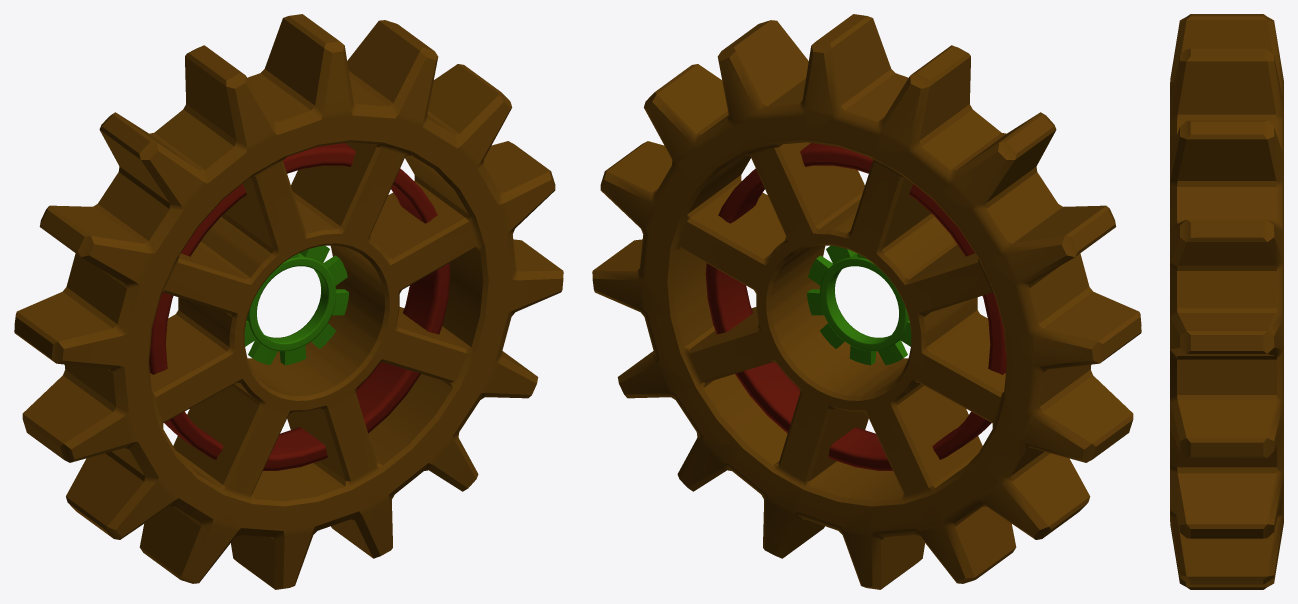
Rendered from medal_Gold.fbx.
3 renders of one model, left to right at view 1: azimuth 30°, elevation 25°; view 2: azimuth 150°, elevation 25°; view 3: azimuth 270°, elevation 25°, orthographic. The views are drawn at different scales.
Parts seen in each view (by area): view 1: medal_gear_kan_pCylinder15; view 2: medal_gear_kan_pCylinder15; view 3: medal_gear_kan_pCylinder15.
Part boxes in pixels (x1,y1,x2,y2): medal_gear_kan_pCylinder15: (14, 14, 563, 589); medal_gear_kan_pCylinder15: (592, 14, 1141, 589); medal_gear_kan_pCylinder15: (1170, 14, 1283, 589).
Bounding box in the file's own units: 2.88 × 2.88 × 0.5675.
